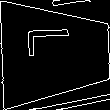L_E: (29, 37, 82, 69)
